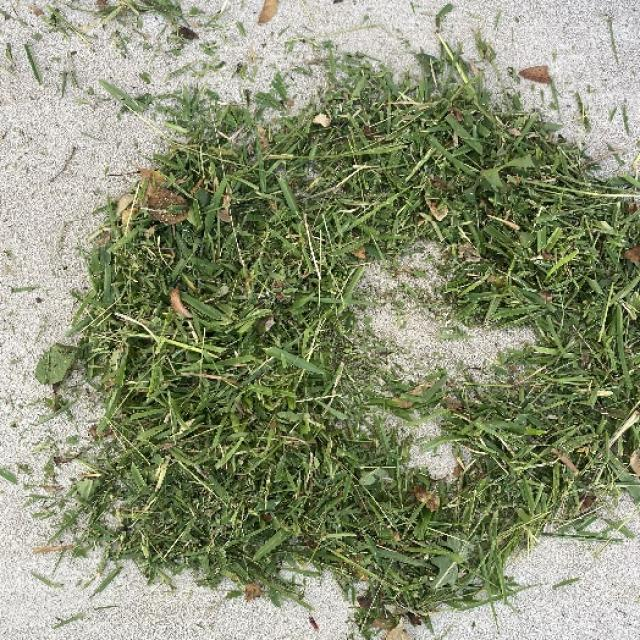organik: (107, 56, 636, 606)
